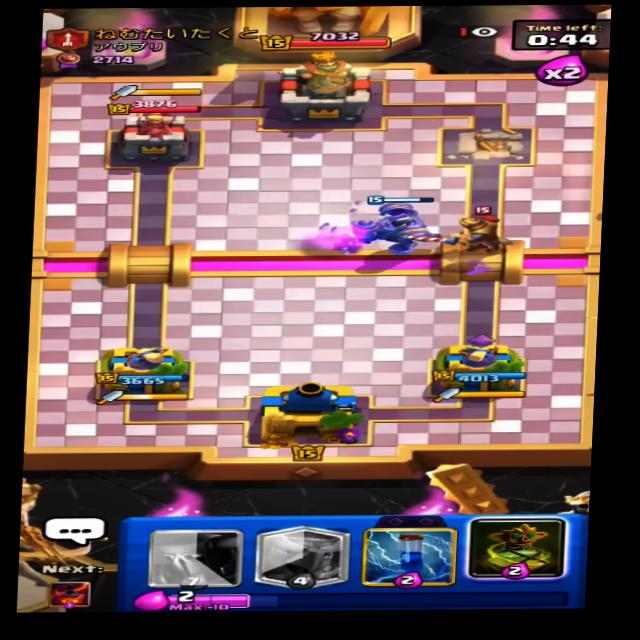prince: (438, 201, 503, 261)
